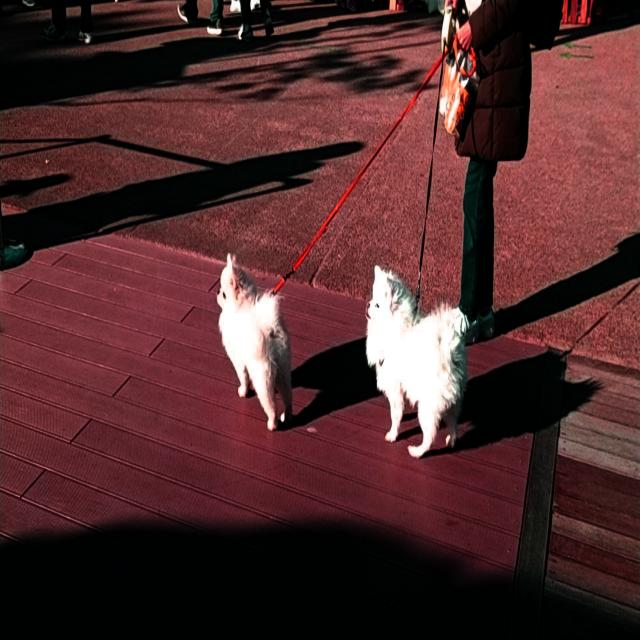Leashed_Dog: (216, 0, 494, 430), (366, 0, 494, 459)
